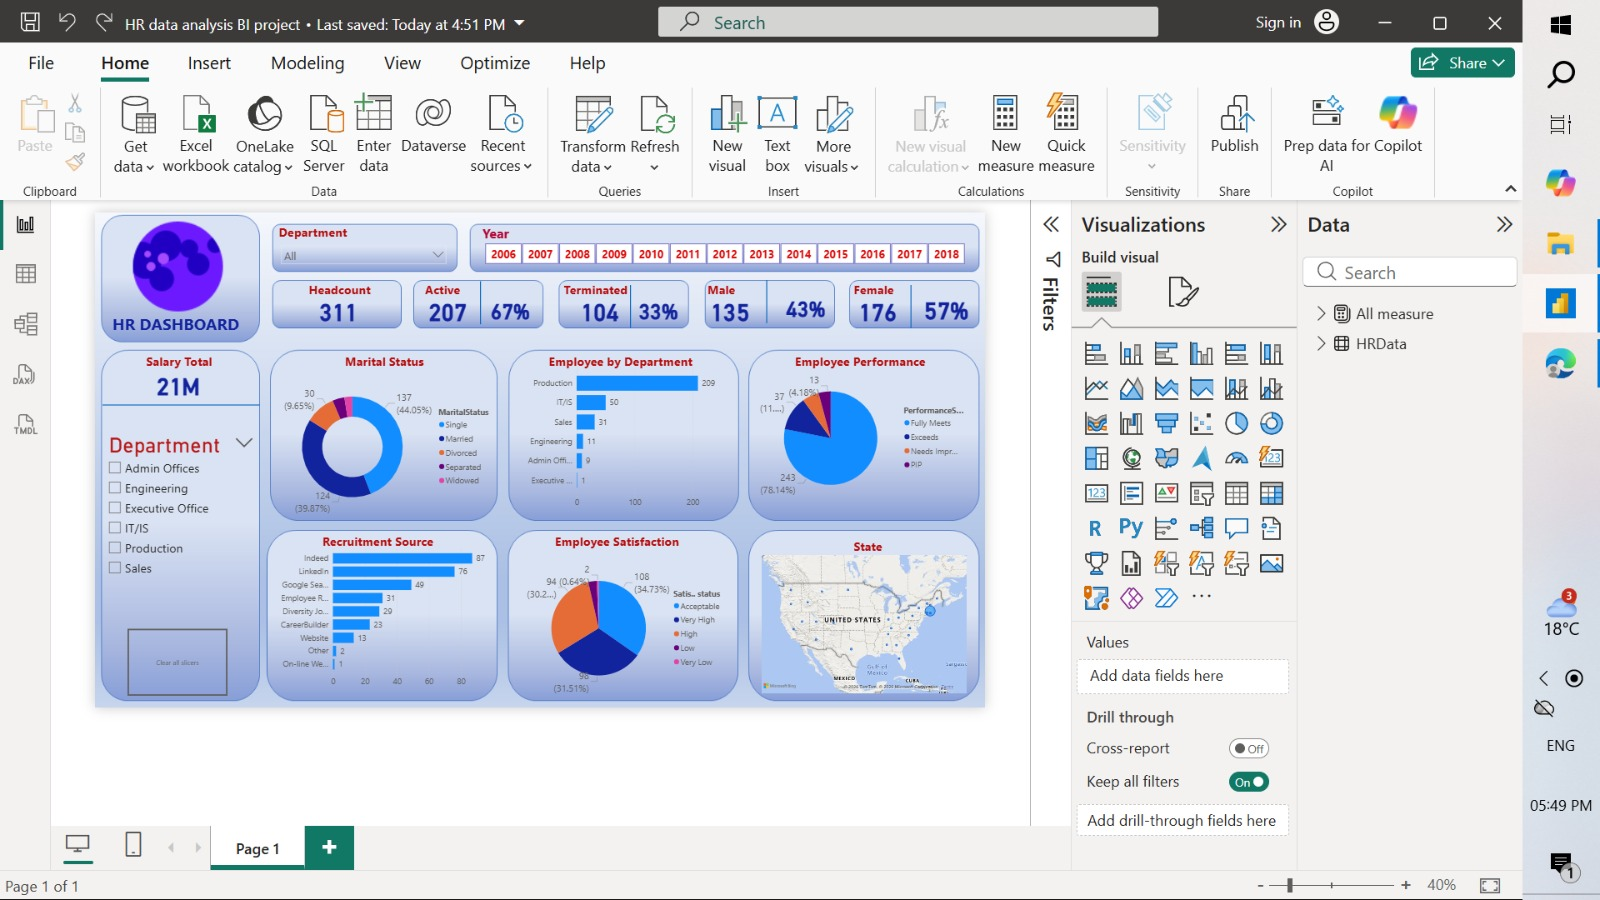

The page's visual inventory and layout, read from the dashboard file:
{"tool":"powerbi","page":{"name":"Page 1","canvas":[1780,990],"ordinal":0},"visuals":[{"type":"image","box":[30,0,272,216],"z":0},{"type":"textbox","box":[30,196,292,56],"z":1000},{"type":"textbox","box":[362,18,176,50],"z":2000},{"type":"slicer","fields":{"Values":["HRData.Department"]},"box":[362,54,350,54],"z":3000},{"type":"slicer","fields":{"Values":["HRData.Hiring Year"]},"box":[754,54,1008,54],"z":4000},{"type":"textbox","box":[770,18,76,50],"z":5000},{"type":"textbox","box":[932,132,156,44],"z":6000},{"type":"textbox","box":[422,132,144,44],"z":7000},{"type":"textbox","box":[654,132,116,44],"z":8000},{"type":"textbox","box":[902,274,318,44],"z":9000},{"type":"textbox","box":[1220,132,156,44],"z":10000},{"type":"textbox","box":[1512,132,156,44],"z":11000},{"type":"textbox","box":[1396,274,290,44],"z":12000},{"type":"textbox","box":[916,636,264,44],"z":13000},{"type":"textbox","box":[1512,644,102,50],"z":14000},{"type":"textbox","box":[450,636,232,44],"z":15000},{"type":"textbox","box":[98,274,164,44],"z":16000},{"type":"card","fields":{"Values":["All measure.Headcount"]},"box":[422,154,128,78],"z":17000},{"type":"card","fields":{"Values":["All measure.Active"]},"box":[654,154,100,78],"z":18000},{"type":"card","fields":{"Values":["All measure.Active percentage"]},"box":[770,154,120,78],"z":19000},{"type":"shape","box":[754,138,32,86],"z":20000},{"type":"shape","box":[1056,146,32,86],"z":21000},{"type":"card","fields":{"Values":["All measure.Terminate"]},"box":[954,154,108,78],"z":22000},{"type":"card","fields":{"Values":["All measure.terminate percentage"]},"box":[1072,154,108,78],"z":23000},{"type":"card","fields":{"Values":["All measure.Male"]},"box":[1220,154,100,78],"z":24000},{"type":"card","fields":{"Values":["All measure.Male %"]},"box":[1360,150,122,78],"z":25000},{"type":"shape","box":[1328,136,32,86],"z":26000},{"type":"shape","box":[1606,146,54,86],"z":27000},{"type":"card","fields":{"Values":["All measure.Female"]},"box":[1514,156,100,78],"z":28000},{"type":"card","fields":{"Values":["All measure.Female %"]},"box":[1632,152,138,78],"z":29000},{"type":"donutChart","fields":{"Y":["All measure.Headcount"],"Category":["HRData.MaritalStatus"]},"box":[338,318,470,302],"z":30000},{"type":"barChart","fields":{"Y":["All measure.Headcount"],"Category":["HRData.Department"]},"box":[844,298,420,304],"z":31000},{"type":"pieChart","fields":{"Y":["All measure.Headcount"],"Category":["HRData.PerformanceScore"]},"box":[1320,300,428,302],"z":32000},{"type":"barChart","fields":{"Y":["All measure.Headcount"],"Category":["HRData.RecruitmentSource"]},"box":[352,658,442,302],"z":33000},{"type":"pieChart","fields":{"Y":["All measure.Headcount"],"Category":["HRData.Satisfaction status"]},"box":[852,680,418,302],"z":34000},{"type":"map","fields":{"Size":["All measure.Headcount"],"Category":["HRData.State"]},"box":[1328,680,420,286],"z":34001},{"type":"textbox","box":[494,274,192,44],"z":34002},{"type":"card","fields":{"Values":["All measure.Salary"]},"box":[70,300,192,86],"z":34003},{"type":"shape","box":[14,274,314,220],"z":34004},{"type":"slicer","fields":{"Values":["HRData.Department"]},"box":[14,434,314,318],"z":34005},{"type":"actionButton","box":[66,832,200,134],"z":34007}]}

Visuals, with their boxes on the page's 1780x990 design canvas (x1, y1, x2, y2). These are canvas units, not pixel positions in the 1600x900 screenshot, which may show the page scaled, cropped or inside an application window:
image: 30:0:302:216
textbox: 30:196:322:252
textbox: 362:18:538:68
slicer - HRData.Department: 362:54:712:108
slicer - HRData.Hiring Year: 754:54:1762:108
textbox: 770:18:846:68
textbox: 932:132:1088:176
textbox: 422:132:566:176
textbox: 654:132:770:176
textbox: 902:274:1220:318
textbox: 1220:132:1376:176
textbox: 1512:132:1668:176
textbox: 1396:274:1686:318
textbox: 916:636:1180:680
textbox: 1512:644:1614:694
textbox: 450:636:682:680
textbox: 98:274:262:318
card - All measure.Headcount: 422:154:550:232
card - All measure.Active: 654:154:754:232
card - All measure.Active percentage: 770:154:890:232
shape: 754:138:786:224
shape: 1056:146:1088:232
card - All measure.Terminate: 954:154:1062:232
card - All measure.terminate percentage: 1072:154:1180:232
card - All measure.Male: 1220:154:1320:232
card - All measure.Male %: 1360:150:1482:228
shape: 1328:136:1360:222
shape: 1606:146:1660:232
card - All measure.Female: 1514:156:1614:234
card - All measure.Female %: 1632:152:1770:230
donutChart - All measure.Headcount x HRData.MaritalStatus: 338:318:808:620
barChart - All measure.Headcount x HRData.Department: 844:298:1264:602
pieChart - All measure.Headcount x HRData.PerformanceScore: 1320:300:1748:602
barChart - All measure.Headcount x HRData.RecruitmentSource: 352:658:794:960
pieChart - All measure.Headcount x HRData.Satisfaction status: 852:680:1270:982
map - All measure.Headcount x HRData.State: 1328:680:1748:966
textbox: 494:274:686:318
card - All measure.Salary: 70:300:262:386
shape: 14:274:328:494
slicer - HRData.Department: 14:434:328:752
actionButton: 66:832:266:966
